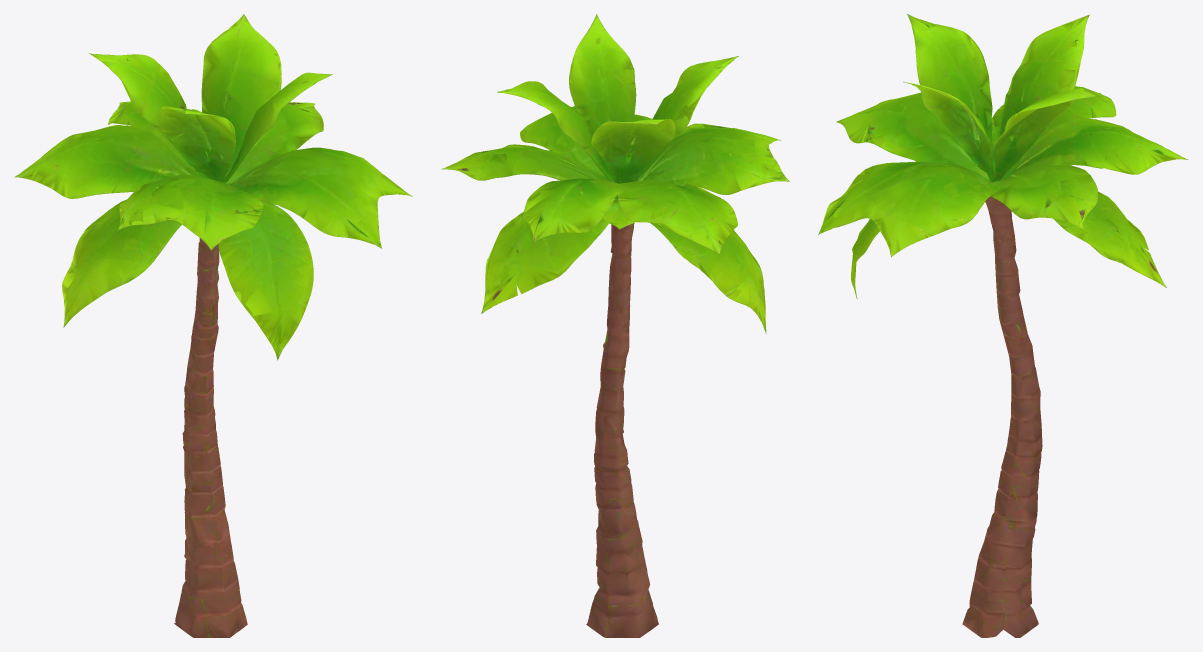
The model's file is tree_palm.glb.
3 renders of one model, left to right at view 1: azimuth 30°, elevation 25°; view 2: azimuth 150°, elevation 25°; view 3: azimuth 270°, elevation 25°, orthographic. The views are drawn at different scales.
Size of the model in its own units: 1.04 by 1.9 by 1.1.
1 material, 1 textured.
